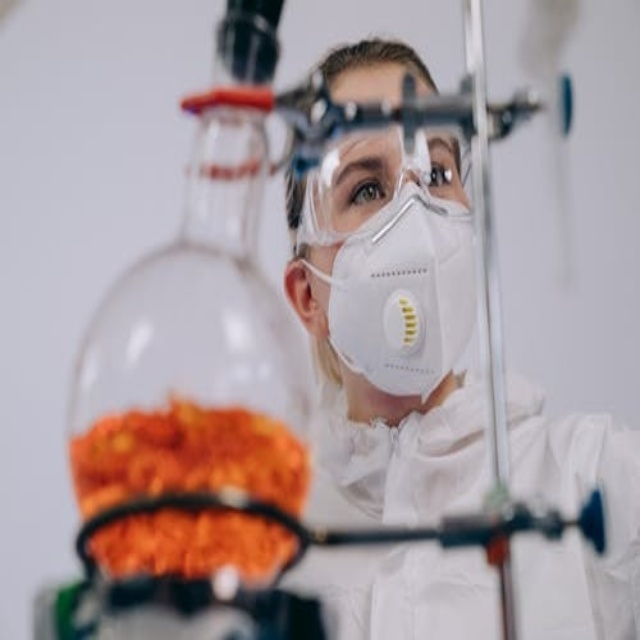Gafas: (293, 113, 476, 259)
Mascara: (303, 142, 477, 402)
